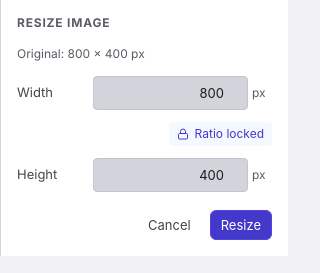
it: ResizeDialog — aspect ratio › lets a field be cleared to retype it, and refuses to resize meanwhile
Clear the number field labelled "Width px": (170, 93) [93, 76, 248, 110]
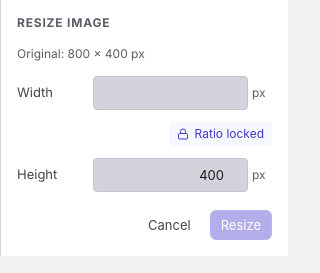
Expected: the button "Resize" is disabled, [210, 210, 272, 240]
